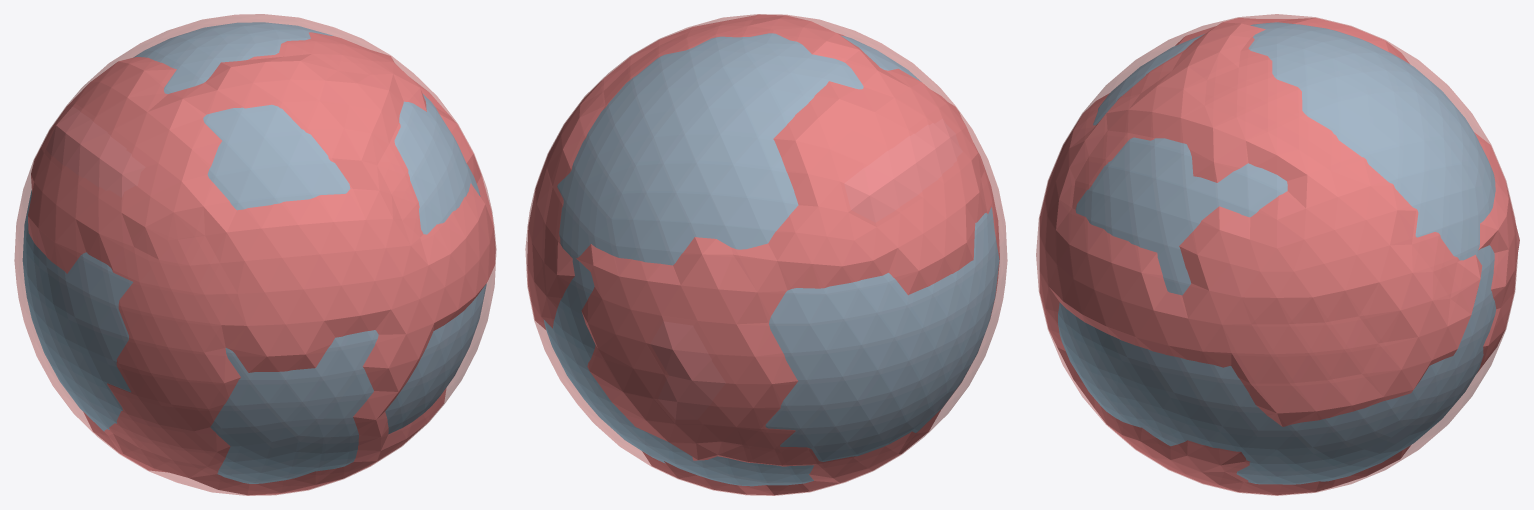
File: SpawnPlanetRed.fbx
The picture shows the model from 3 angles, left to right: view 1: azimuth 30°, elevation 25°; view 2: azimuth 150°, elevation 25°; view 3: azimuth 270°, elevation 25°; orthographic projection.
Visible parts, largest first — view 1: Atmosphere, Land, Ocean; view 2: Atmosphere, Land, Ocean; view 3: Atmosphere, Land, Ocean.
Part boxes in pixels (<box>): Atmosphere: <box>14,14,496,495</box>; Land: <box>28,32,495,495</box>; Ocean: <box>22,22,486,483</box>; Atmosphere: <box>525,14,1007,495</box>; Land: <box>527,14,999,495</box>; Ocean: <box>544,33,999,486</box>; Atmosphere: <box>1036,14,1517,495</box>; Land: <box>1039,18,1519,495</box>; Ocean: <box>1058,22,1496,484</box>.
Size of the model in its own units: 1305 by 1305 by 1310.
